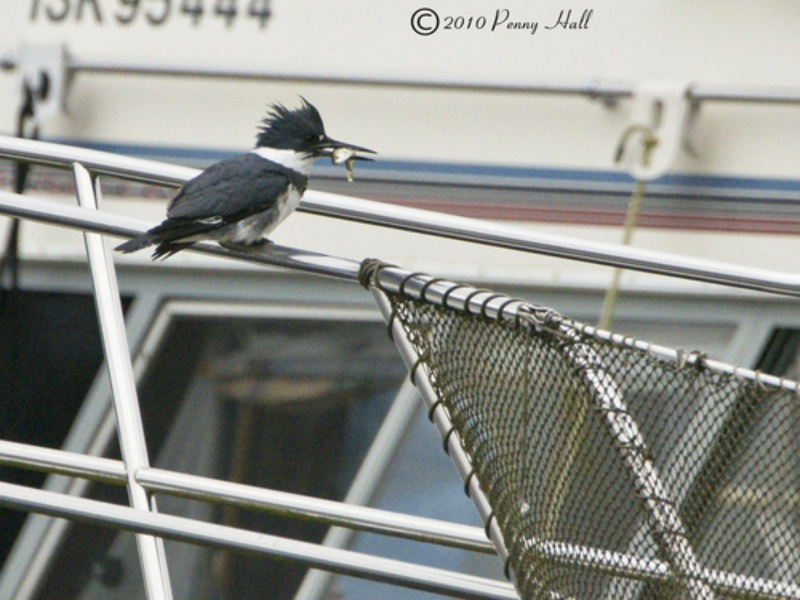kingfisher: (112, 87, 378, 278)
